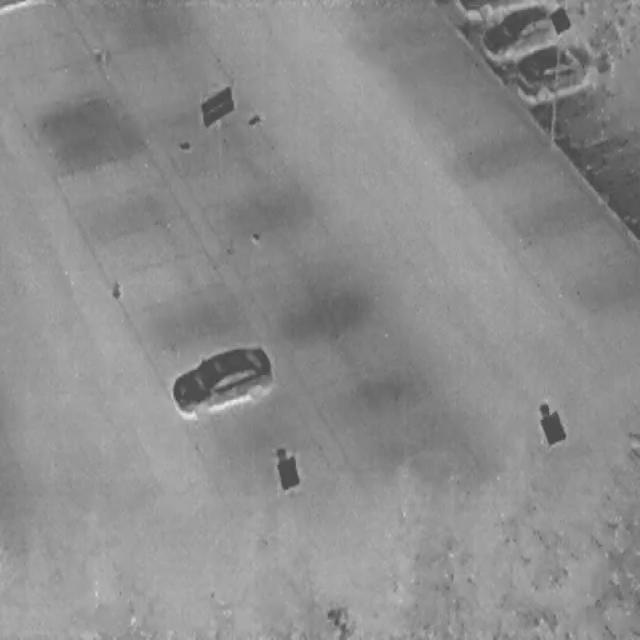Car: (165, 332, 278, 426), (506, 24, 598, 110), (477, 0, 559, 62)
